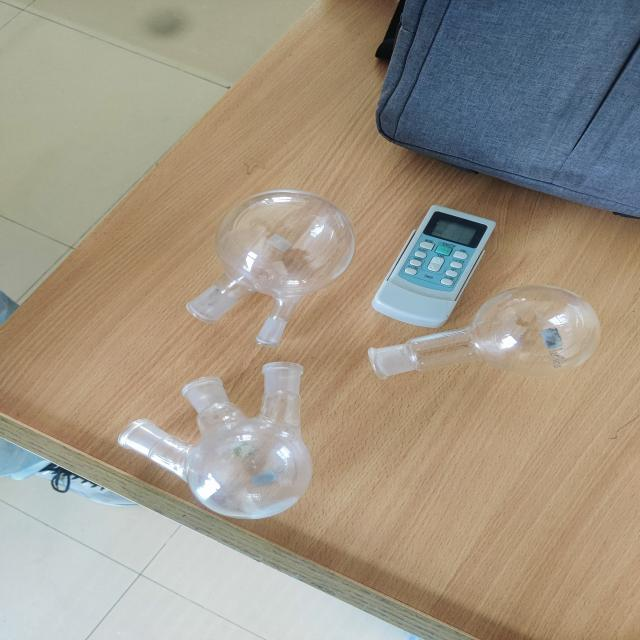Round_Bottom_Flask_Borosilicate_Glass_1_Neck: (346, 268, 620, 406)
Round_Bottom_Flask_Borosilicate_Glass_2_Neck: (162, 162, 366, 355)
Round_Bottom_Flask_Borosilicate_Glass_3_Neck: (109, 348, 357, 537)
